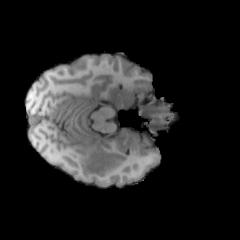glioma: (77, 143, 125, 174)
